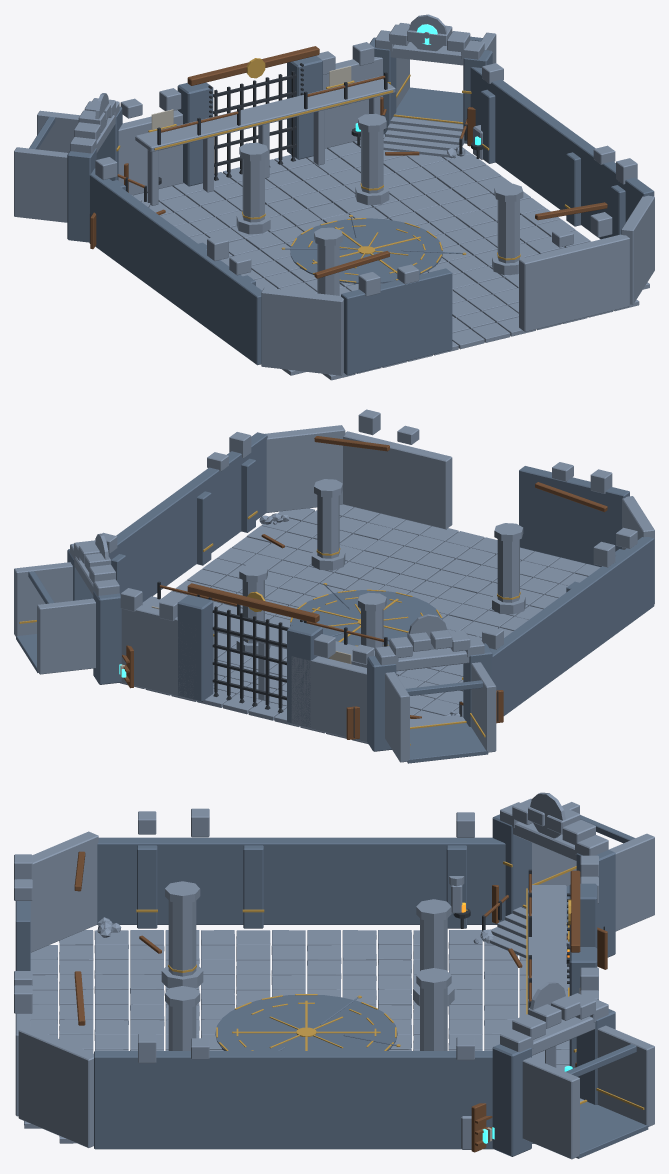
File: shattered_junction.glb
The picture shows the model from 3 angles, top to bottom: view 1: azimuth 30°, elevation 25°; view 2: azimuth 150°, elevation 25°; view 3: azimuth 270°, elevation 25°; orthographic projection. The views are drawn at different scales.
Parts seen in each view (by area): view 1: Outer wall 6, Outer wall 3, Outer wall 0, Outer wall 1, Outer wall 7, Compass stone medallion, Broken upper balcony, Soldier Passage corridor side wall, Outer wall 5, Outer wall 2, Outer wall 4, Soldier Passage gate tower (+27 smaller); view 2: Outer wall 6, Outer wall 3, Outer wall 1, Outer wall 0, Outer wall 2, Outer wall 5, Outer wall 4, Forgotten Passage corridor side wall, North gate tower.001, Compass stone medallion, Forgotten Passage corridor side wall.001, Soldier Passage corridor floor (+20 smaller); view 3: Outer wall 3, Outer wall 6, Compass stone medallion, Outer wall 2, Outer wall 7, Forgotten Passage corridor side wall.001, Forgotten Passage corridor side wall, Broken upper balcony, Forgotten Passage gate tower.001, Soldier Passage corridor side wall.001, Forgotten Passage corridor floor, Soldier Passage gate tower (+52 smaller).
Boxes of the visible parts, left/top/right/bottom form: Outer wall 6: left=89, top=168, right=261, bottom=365; Outer wall 3: left=470, top=67, right=654, bottom=239; Outer wall 0: left=341, top=268, right=452, bottom=375; Outer wall 1: left=519, top=234, right=629, bottom=331; Outer wall 7: left=261, top=287, right=343, bottom=375; Compass stone medallion: left=290, top=218, right=442, bottom=284; Broken upper balcony: left=135, top=76, right=395, bottom=151; Soldier Passage corridor side wall: left=14, top=147, right=68, bottom=222; Outer wall 5: left=118, top=110, right=183, bottom=195; Outer wall 2: left=621, top=195, right=654, bottom=304; Outer wall 4: left=323, top=57, right=382, bottom=148; Soldier Passage gate tower: left=67, top=148, right=96, bottom=242; Outer wall 6: left=490, top=537, right=654, bottom=715; Outer wall 3: left=108, top=432, right=267, bottom=602; Outer wall 1: left=343, top=431, right=452, bottom=529; Outer wall 0: left=519, top=466, right=629, bottom=567; Outer wall 2: left=265, top=425, right=345, bottom=512; Outer wall 5: left=291, top=656, right=367, bottom=742; Outer wall 4: left=121, top=605, right=197, bottom=701; Forgotten Passage corridor side wall: left=37, top=598, right=95, bottom=674; North gate tower.001: left=177, top=594, right=213, bottom=701; Compass stone medallion: left=290, top=590, right=442, bottom=646; Forgotten Passage corridor side wall.001: left=14, top=562, right=72, bottom=636; Soldier Passage corridor floor: left=407, top=723, right=488, bottom=763; Outer wall 3: left=94, top=1051, right=493, bottom=1149; Outer wall 6: left=97, top=837, right=505, bottom=924; Compass stone medallion: left=215, top=995, right=397, bottom=1050; Outer wall 2: left=18, top=1026, right=93, bottom=1147; Outer wall 7: left=30, top=831, right=98, bottom=952; Forgotten Passage corridor side wall.001: left=522, top=1057, right=579, bottom=1159; Forgotten Passage corridor side wall: left=597, top=1025, right=654, bottom=1126; Broken upper balcony: left=527, top=885, right=566, bottom=1013; Forgotten Passage gate tower.001: left=492, top=1044, right=531, bottom=1156; Soldier Passage corridor side wall.001: left=609, top=833, right=654, bottom=931; Forgotten Passage corridor floor: left=576, top=1101, right=648, bottom=1158; Soldier Passage gate tower: left=492, top=814, right=531, bottom=915.
Size of the model in its own units: 37.38 by 9.44 by 36.22.
